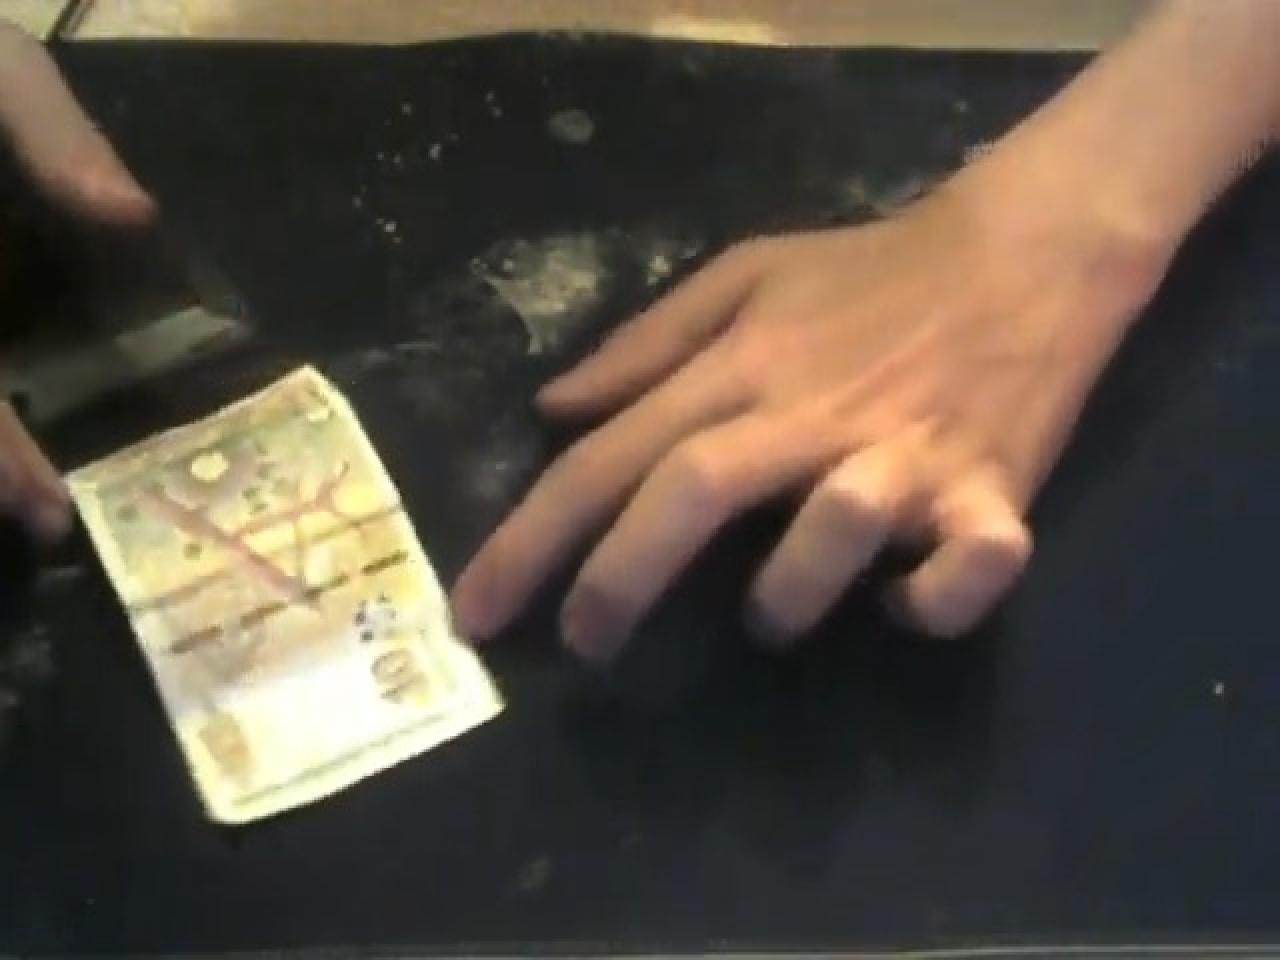10leva: (62, 365, 504, 829)
